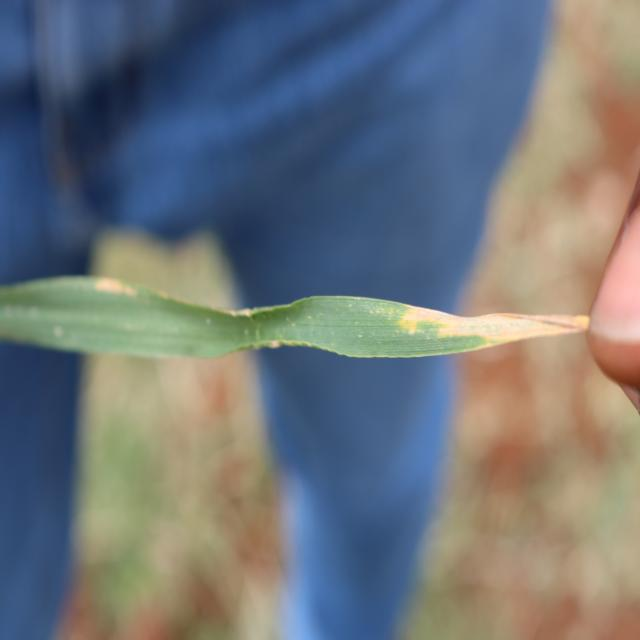Stripe Rust: (388, 301, 590, 350), (92, 276, 136, 304)
